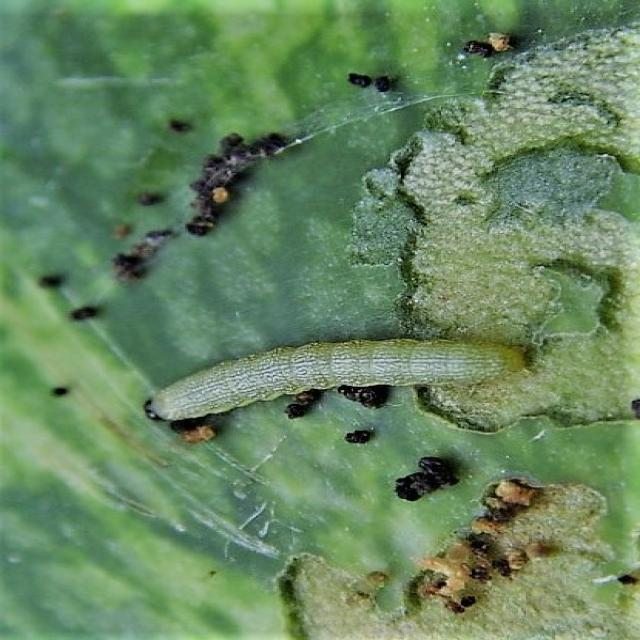armyworm: (142, 336, 527, 423)
